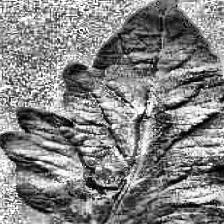disease: (1, 0, 224, 224)
